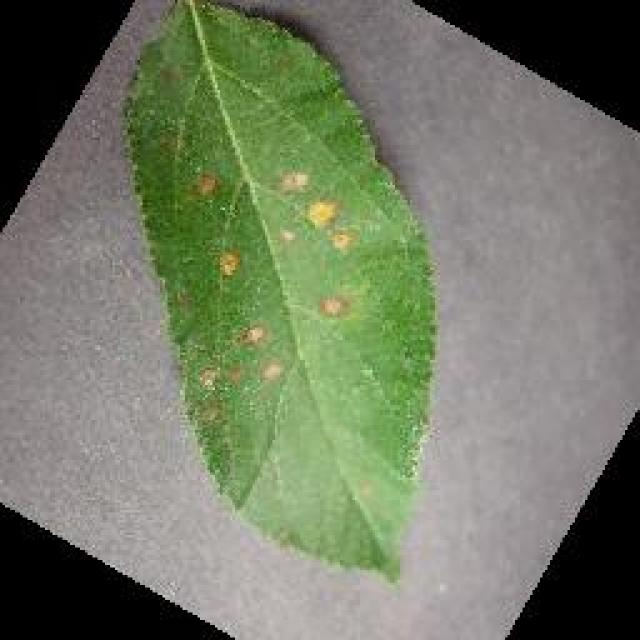apple rust disease: (120, 0, 440, 585)
